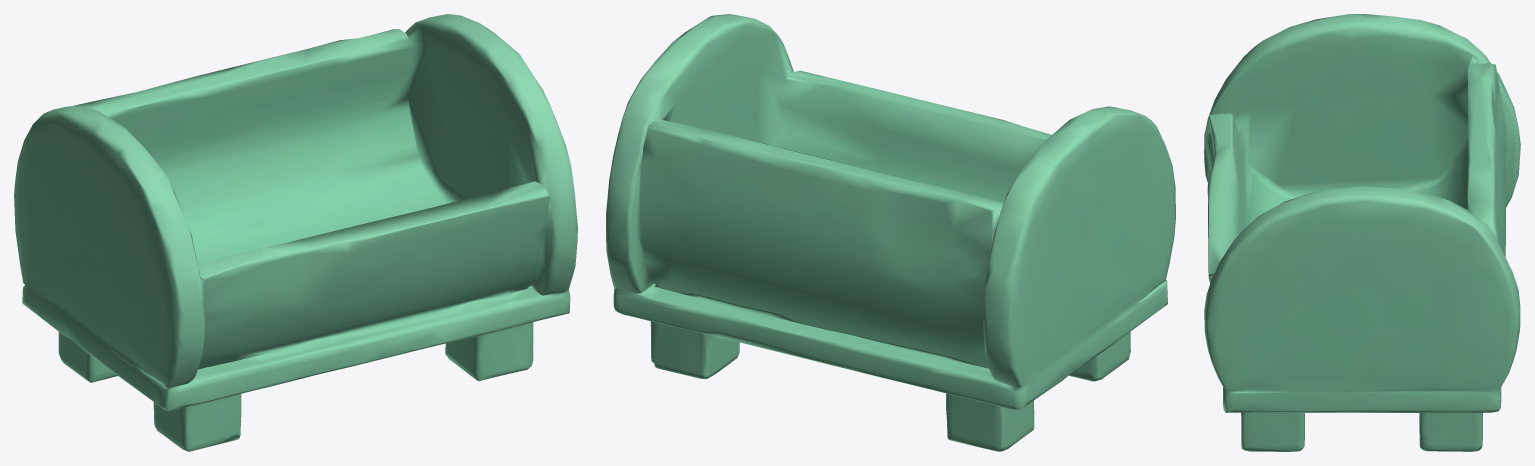
The model's file is library_book_bin.glb.
3 views of the same model, side by side, from view 1: azimuth 30°, elevation 25°; view 2: azimuth 150°, elevation 25°; view 3: azimuth 270°, elevation 25° (orthographic). The views are drawn at different scales.
Parts seen in each view (by area): view 1: tripo_node_f524fe69-dcfa-405c-a62c-c7acbc2248b5; view 2: tripo_node_f524fe69-dcfa-405c-a62c-c7acbc2248b5; view 3: tripo_node_f524fe69-dcfa-405c-a62c-c7acbc2248b5.
Part boxes in pixels (x1,y1,x2,y2): tripo_node_f524fe69-dcfa-405c-a62c-c7acbc2248b5: (14,14,577,451); tripo_node_f524fe69-dcfa-405c-a62c-c7acbc2248b5: (606,14,1175,451); tripo_node_f524fe69-dcfa-405c-a62c-c7acbc2248b5: (1204,14,1520,451).
Bounding box in the file's own units: 0.6 × 0.4019 × 0.4295.
Materials: 1 (1 with a texture image).
